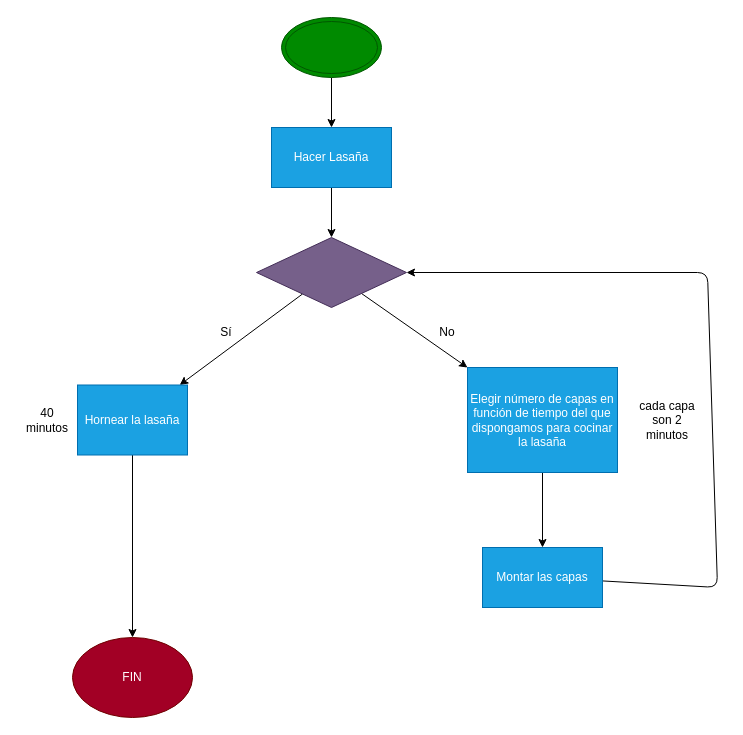
Some shapes in this 743 by 735 pixel diagram are drawn without their labels. The shapes that lost their labels are listed below. From the top down, each one's centre as x and y in pixels, then its label:
At point 331,47: "INICIO".
At point 331,272: "¿están las capas montadas?".
